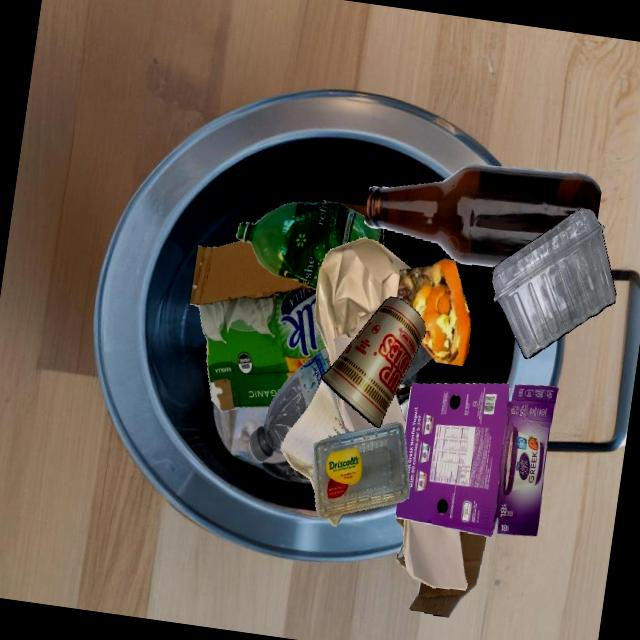biowaste: (397, 258, 471, 366)
cardboard: (204, 206, 399, 406), (396, 383, 559, 537), (190, 245, 326, 412), (408, 531, 487, 617), (397, 522, 467, 584)
glass: (364, 164, 602, 267)
paper: (315, 238, 410, 366), (342, 270, 400, 404), (403, 519, 467, 590), (280, 407, 316, 491), (399, 400, 409, 422)
plastic: (492, 208, 616, 358), (236, 202, 381, 290), (312, 422, 410, 519), (249, 347, 331, 462)
trash: (321, 297, 426, 428)
